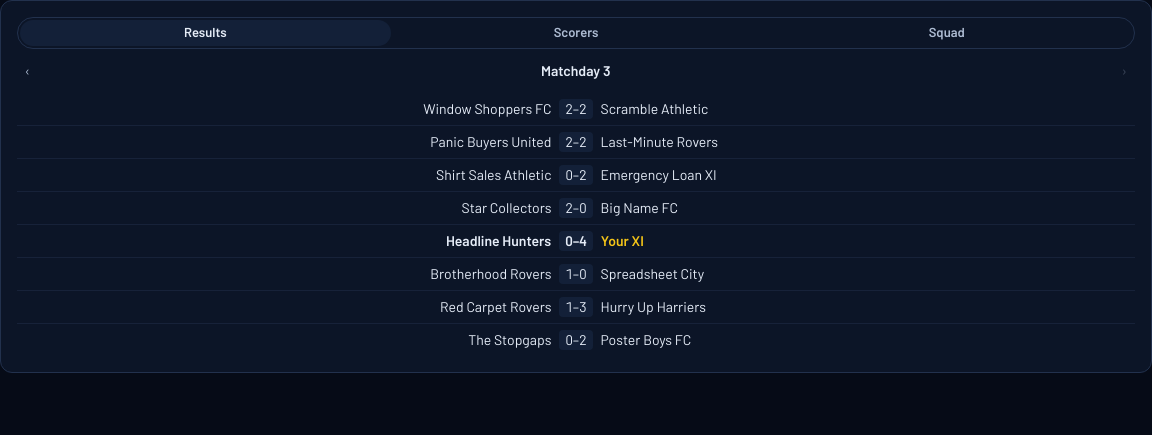
Scenario: player ratings › lists the user's squad with season averages in the Squad tab
Click the tab "Squad" at (947, 33), box [761, 20, 1132, 46]
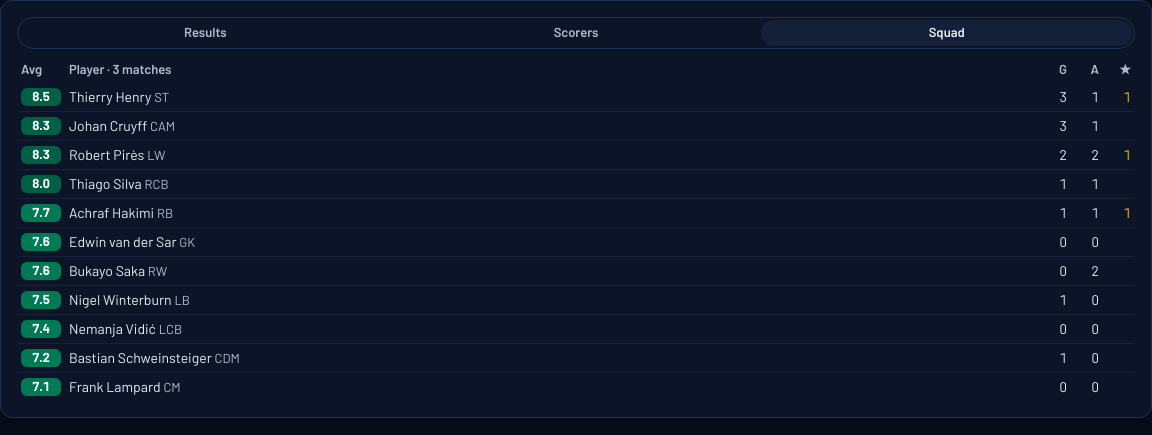
Expected: the number of list items is 11
Expected: the text "Player · 3 matches" is shown, [69, 61, 172, 77]
